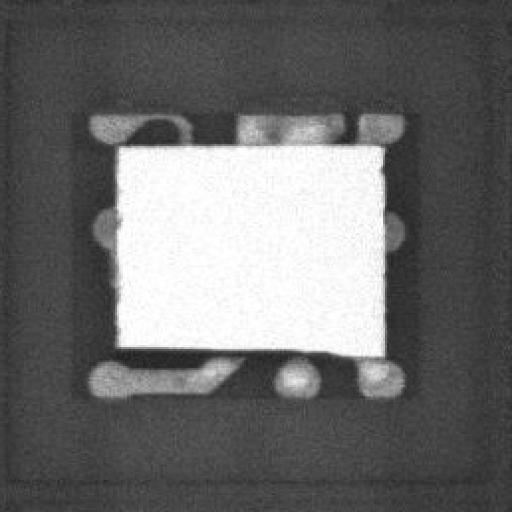DIE_BROKEN: (115, 343, 351, 355)
